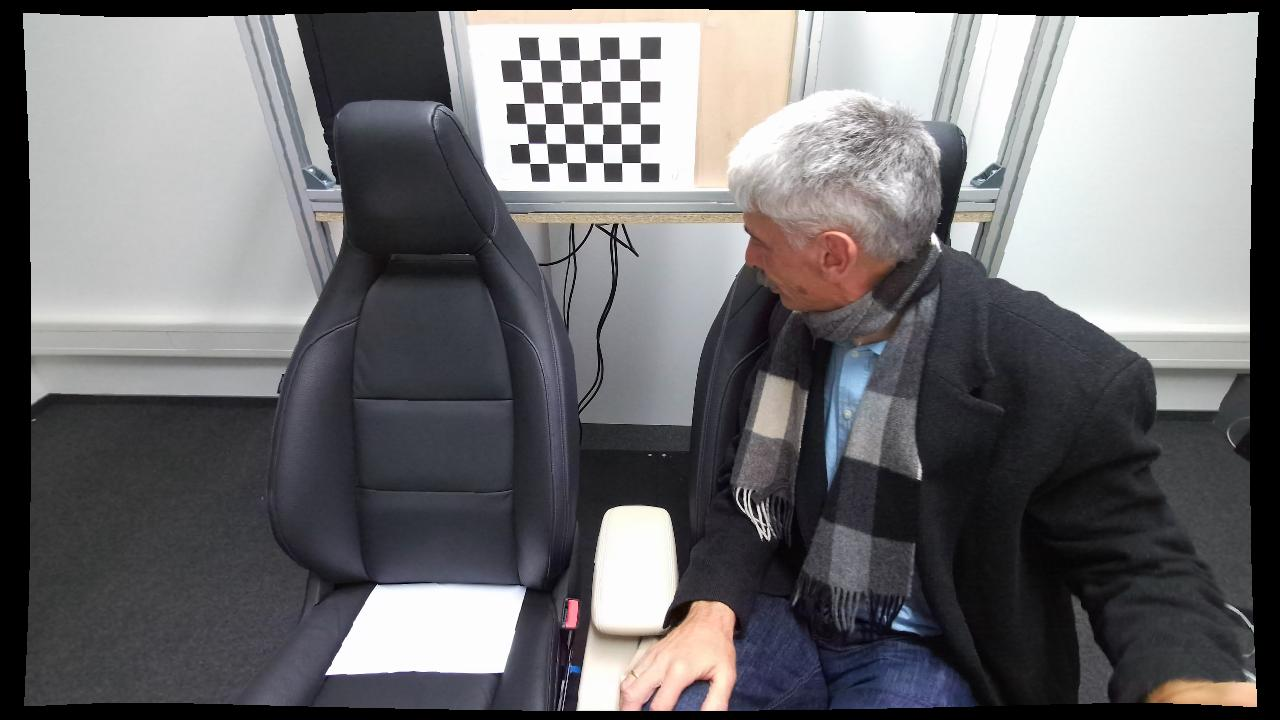Distracted: (618, 85, 1156, 711)
